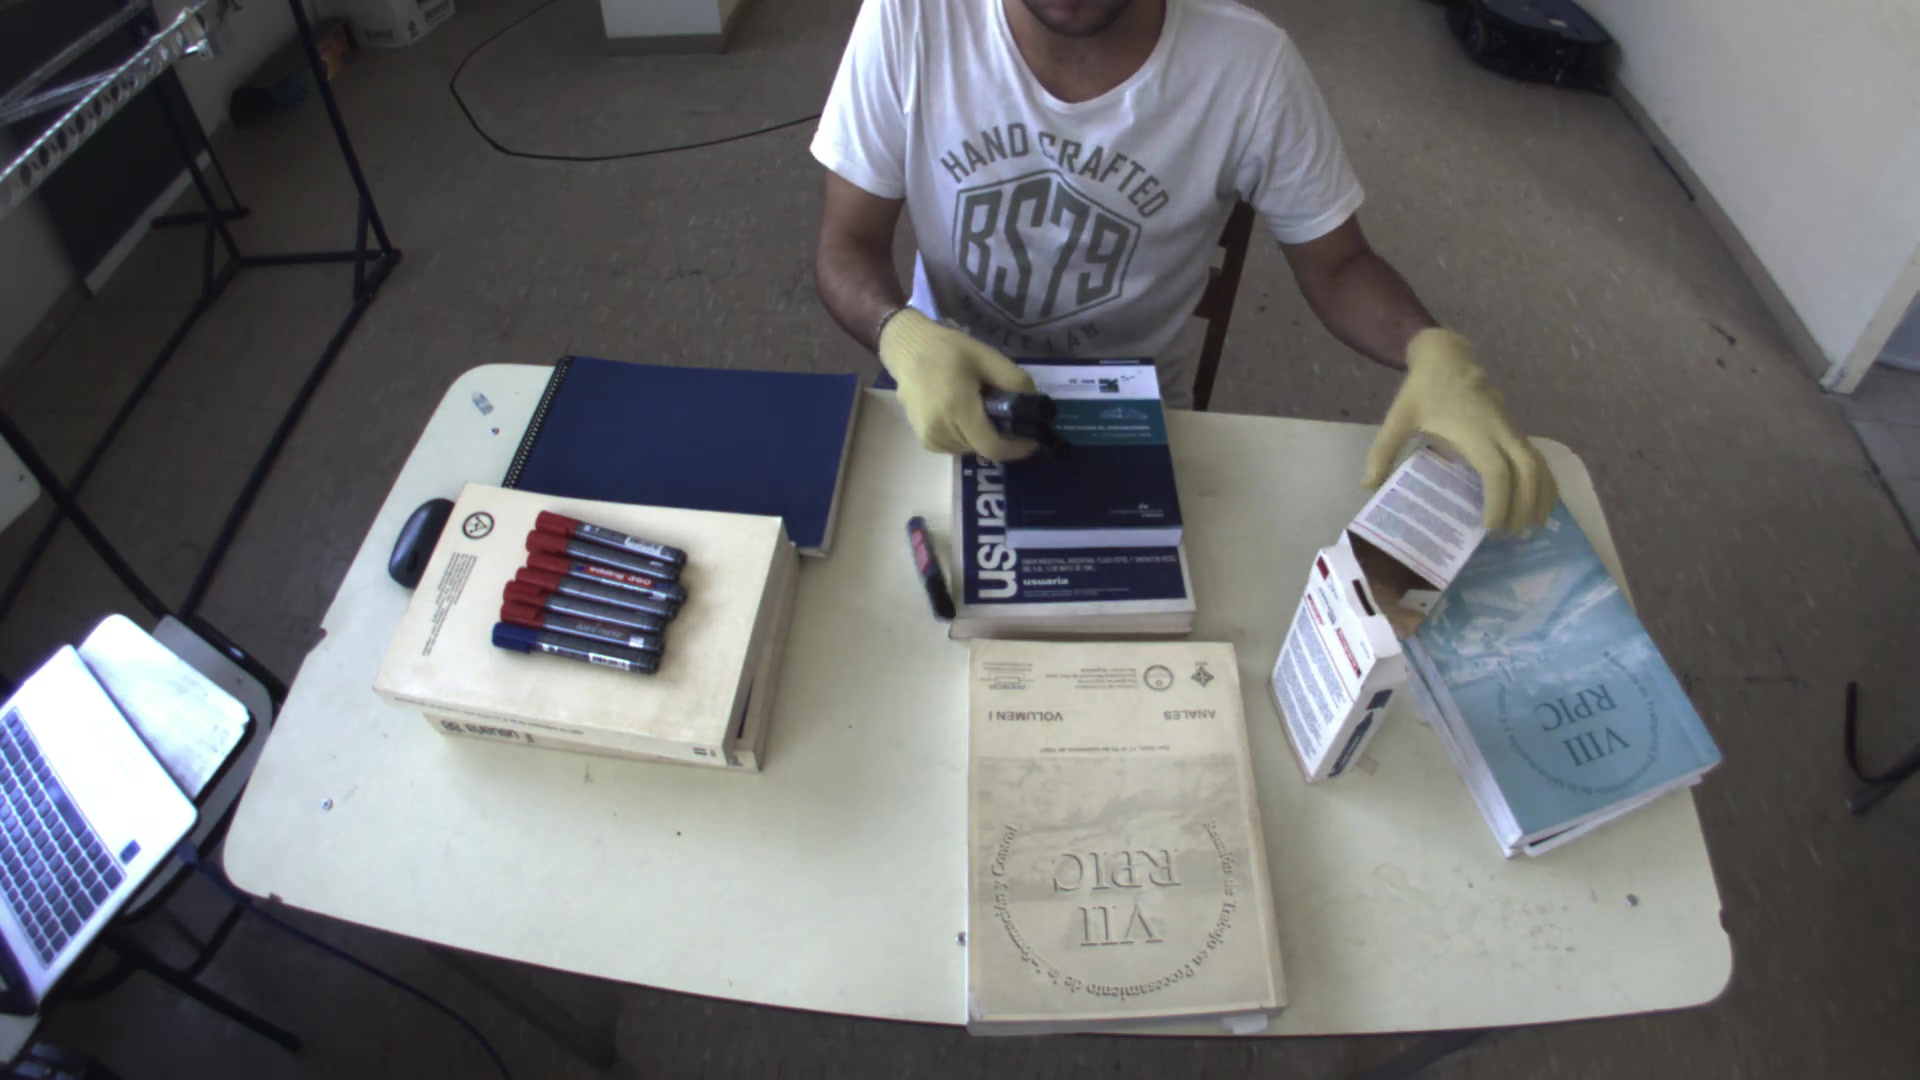hand: (1356, 324, 1567, 549), (864, 302, 1044, 472)
